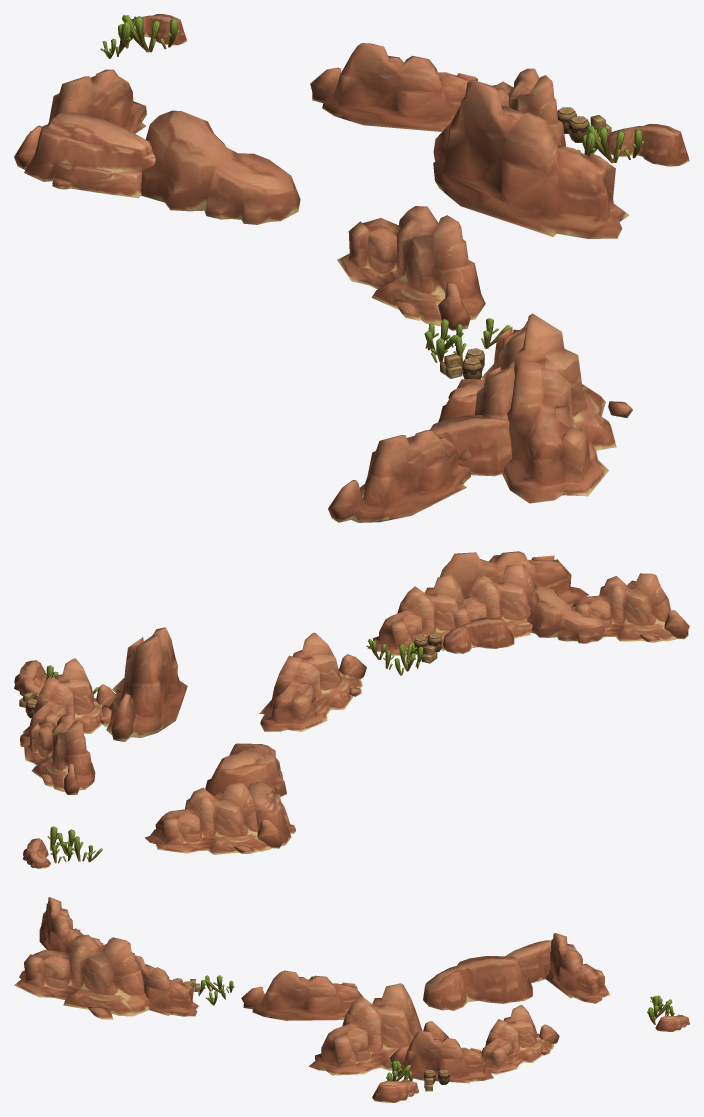
Rendered from rock_red09.fbx.
3 renders of one model, top to bottom at view 1: azimuth 30°, elevation 25°; view 2: azimuth 150°, elevation 25°; view 3: azimuth 270°, elevation 25°, orthographic. The views are drawn at different scales.
Parts seen in each view (by area): view 1: rock_red09; view 2: rock_red09; view 3: rock_red09.
Boxes of the visible parts, left/top/right/bottom form: rock_red09: left=14, top=14, right=689, bottom=522; rock_red09: left=14, top=551, right=689, bottom=868; rock_red09: left=14, top=897, right=689, bottom=1102.
Bounding box in the file's own units: 5385 × 918 × 8578.
Materials: 1 (1 with a texture image).
